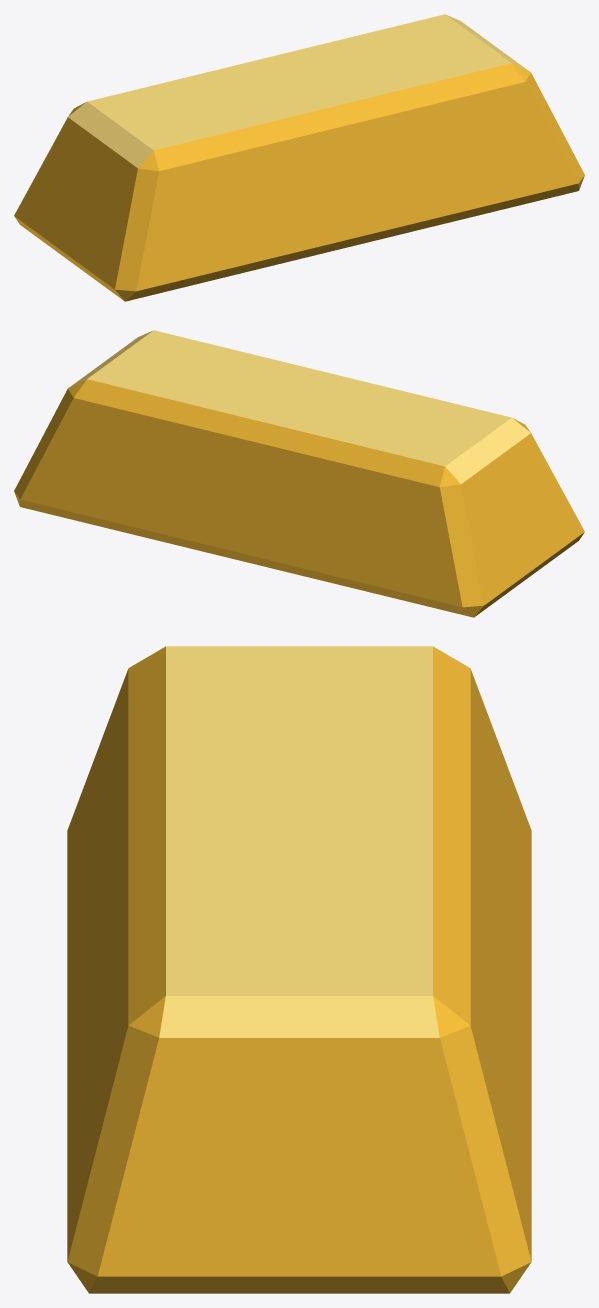
The model's file is Res_Ingot_Gold.fbx.
3 views of the same model, one above another, from view 1: azimuth 30°, elevation 25°; view 2: azimuth 150°, elevation 25°; view 3: azimuth 270°, elevation 25° (orthographic). The views are drawn at different scales.
Visible parts, largest first — view 1: Res_Ingot_Gold; view 2: Res_Ingot_Gold; view 3: Res_Ingot_Gold.
Boxes of the visible parts, box(x1,y1,x2,y2) form: Res_Ingot_Gold: box(14, 14, 584, 301); Res_Ingot_Gold: box(14, 330, 584, 617); Res_Ingot_Gold: box(67, 646, 531, 1293).
Bounding box in the file's own units: 0.2941 × 0.075 × 0.1257.
